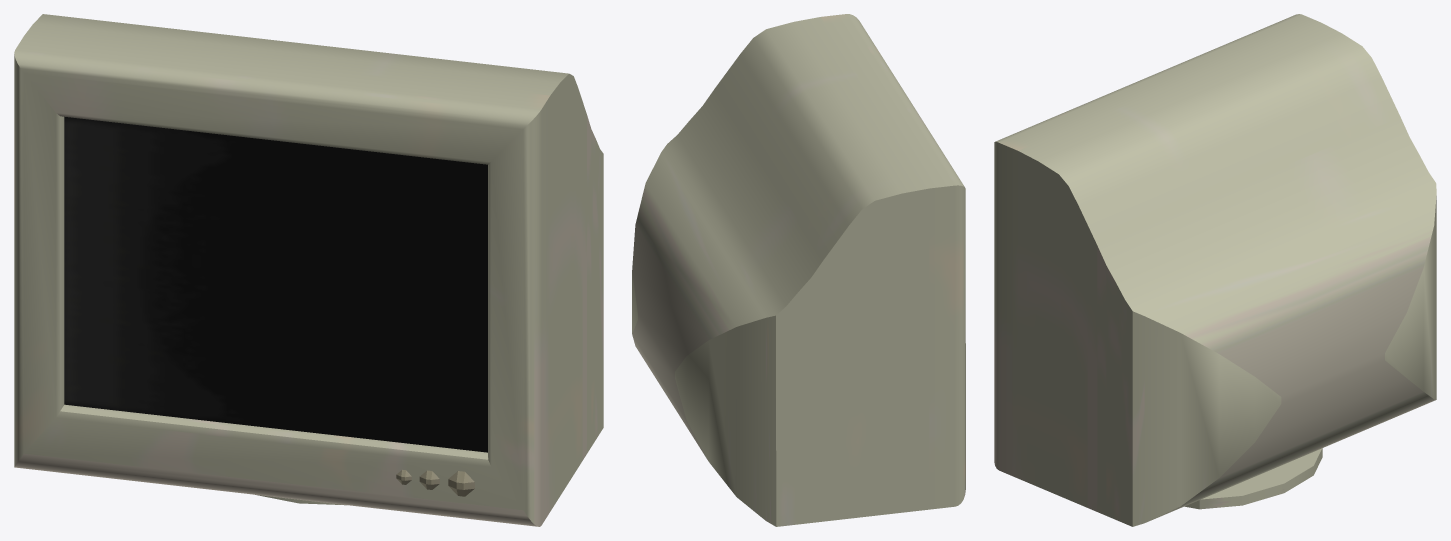
Rendered from monitor.glb.
The picture shows the model from 3 angles, left to right: view 1: azimuth 30°, elevation 25°; view 2: azimuth 150°, elevation 25°; view 3: azimuth 270°, elevation 25°; orthographic projection. The views are drawn at different scales.
Visible parts, largest first — view 1: monitor_0; view 2: monitor_0; view 3: monitor_0.
Boxes of the visible parts, x1,y1,x2,y2 form: monitor_0: (14, 14, 603, 526); monitor_0: (632, 14, 965, 526); monitor_0: (994, 14, 1436, 526).
Size of the model in its own units: 0.911 by 0.8117 by 0.911.
1 material, 1 textured.
